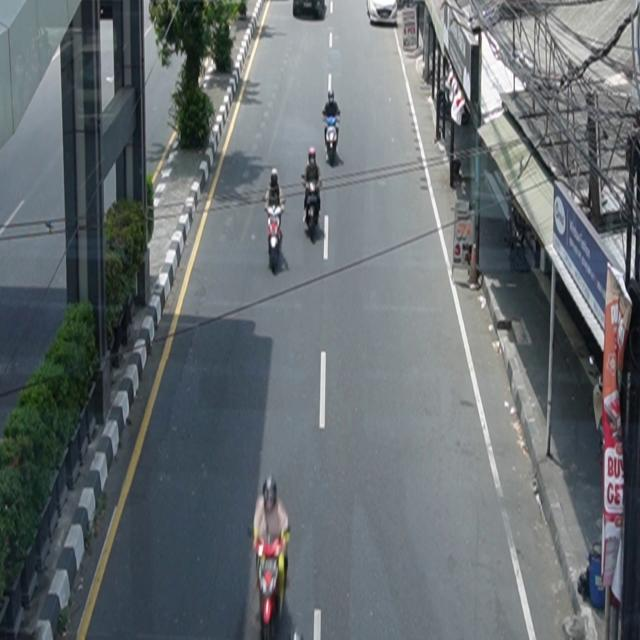car: (366, 1, 398, 26), (293, 1, 328, 21)
